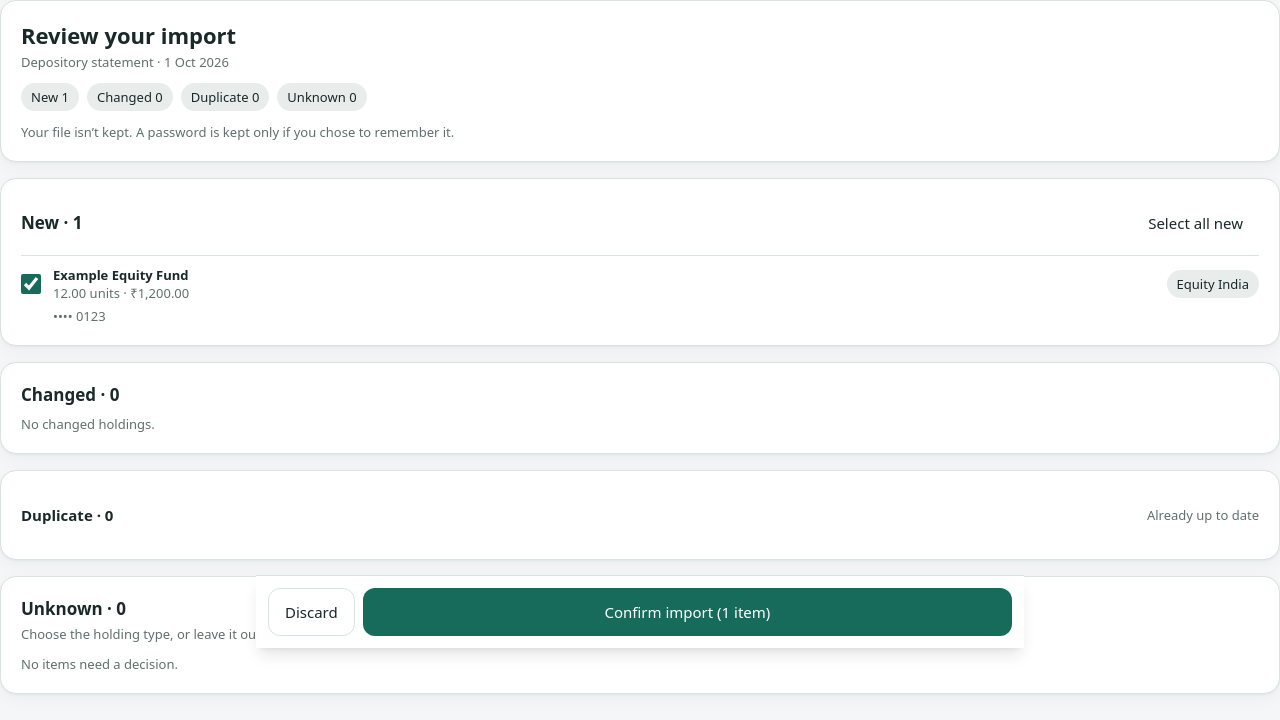
Test: statement import review › shows the confirmed state for an already-confirmed response
Click the button "Confirm import (1 item)" at (687, 612), box x1=363 y1=588 x2=1012 y2=636
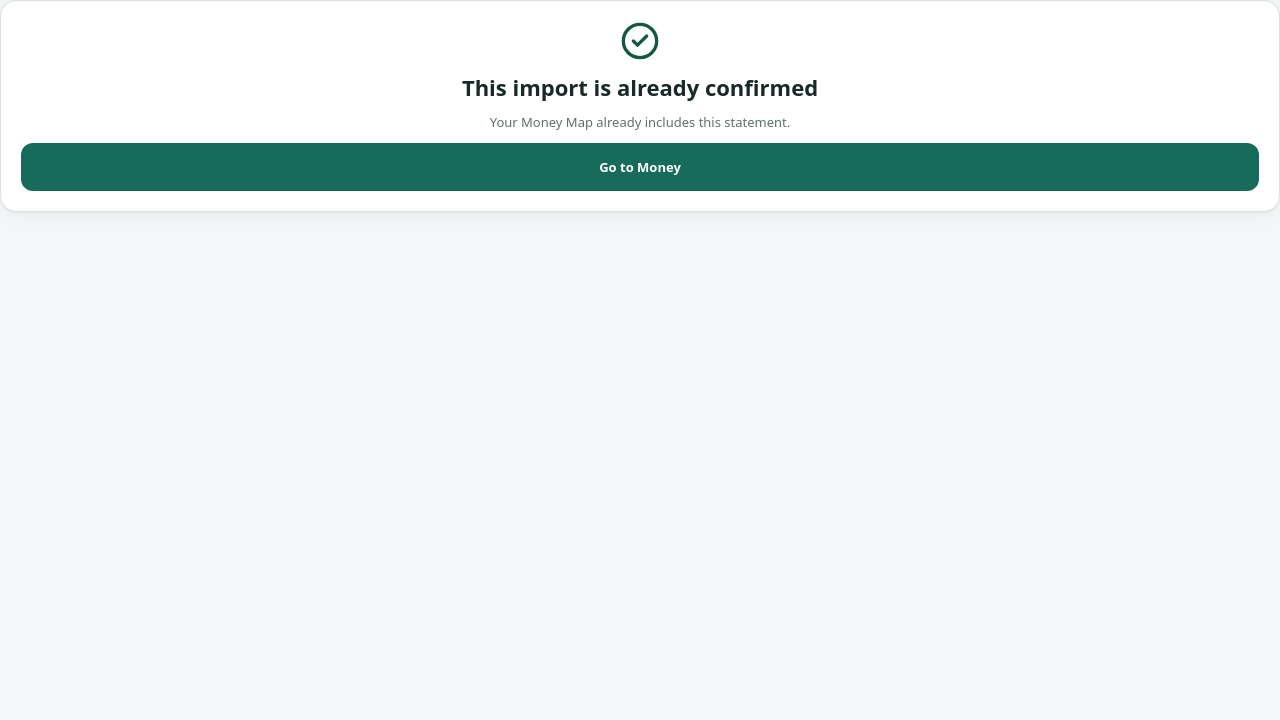
Result: the heading "This import is already confirmed" is shown at x1=462 y1=72 x2=818 y2=102
